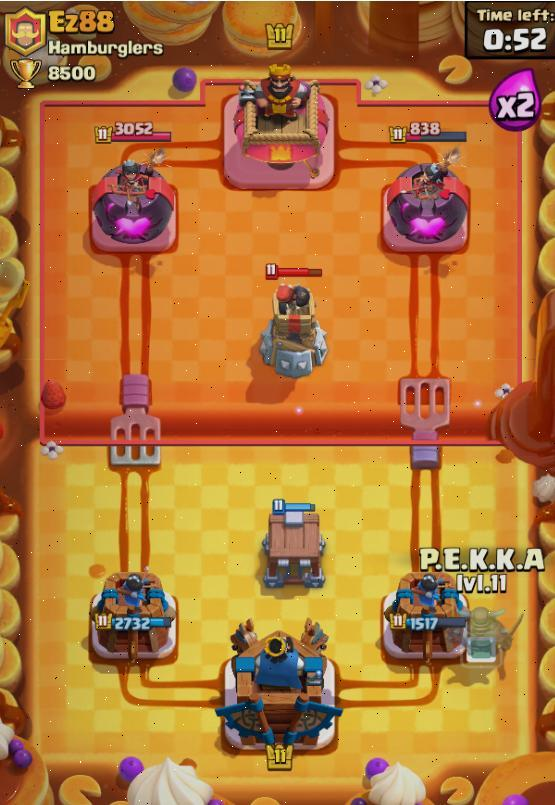EBombertower: (259, 284, 327, 379)
EKingTower: (223, 64, 335, 190)
EnemyPrincessTower: (90, 161, 175, 253), (382, 164, 468, 253)
OBigPekka: (463, 607, 522, 669)
OGoblinCage: (262, 499, 324, 588)
OwnKingTower: (216, 619, 341, 750)
OwnPrincessTower: (90, 569, 175, 662), (382, 572, 468, 662)
